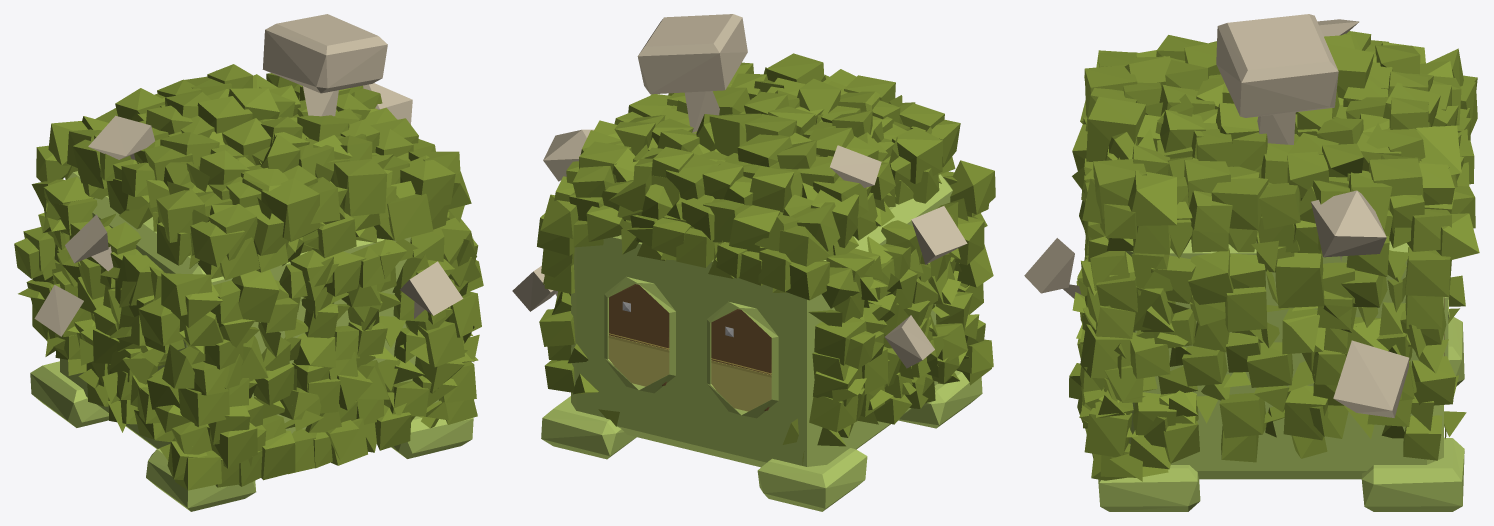
Rendered from moss_slime_roblox.glb.
The picture shows the model from 3 angles, left to right: view 1: azimuth 30°, elevation 25°; view 2: azimuth 150°, elevation 25°; view 3: azimuth 270°, elevation 25°; orthographic projection. The views are drawn at different scales.
Parts seen in each view (by area): view 1: Body; view 2: Body, Eyes; view 3: Body.
Part boxes in pixels (x1,y1,x2,y2): Body: (14, 14, 483, 511); Body: (512, 14, 995, 511); Eyes: (608, 335, 771, 411); Body: (1024, 14, 1479, 511).
Size of the model in its own units: 1.53 by 1.42 by 1.33.
